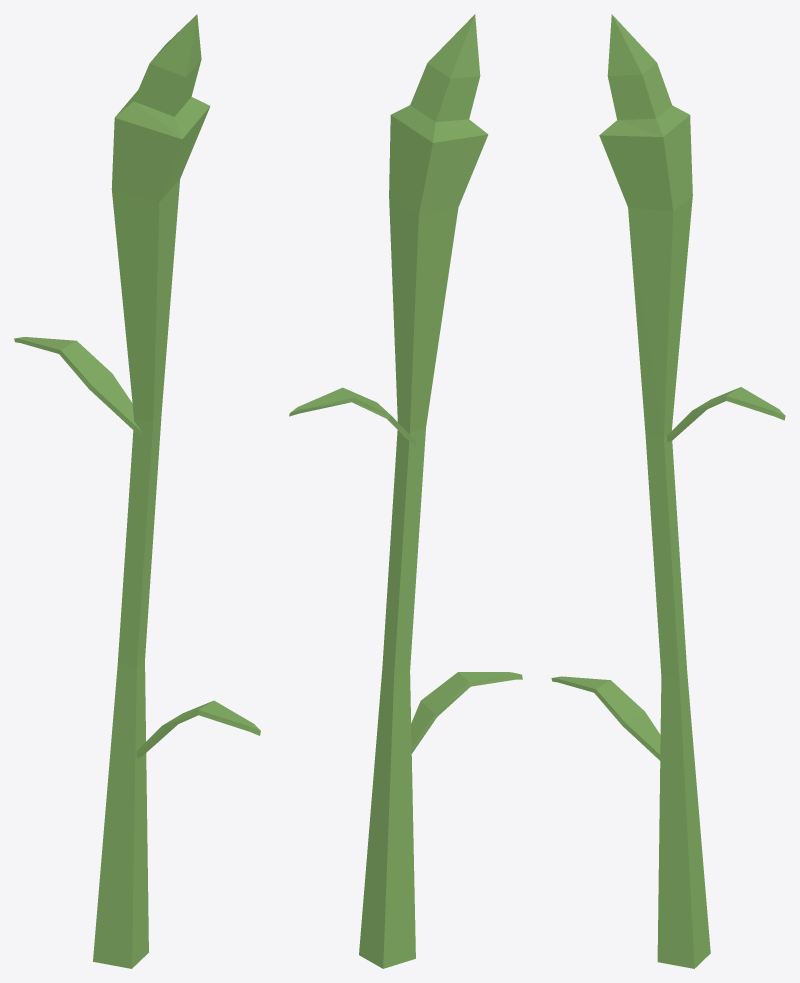
Rendered from Wheat_2.glb.
3 views of the same model, side by side, from view 1: azimuth 90°, elevation 25°; view 2: azimuth 150°, elevation 25°; view 3: azimuth 270°, elevation 25° (orthographic). The views are drawn at different scales.
Visible parts, largest first — view 1: Wheat_2; view 2: Wheat_2; view 3: Wheat_2.
Boxes of the visible parts, <box> form: Wheat_2: <box>14,14,260,968</box>; Wheat_2: <box>289,14,522,968</box>; Wheat_2: <box>551,14,785,968</box>.
Size of the model in its own units: 0.0724 by 0.5389 by 0.1245.
